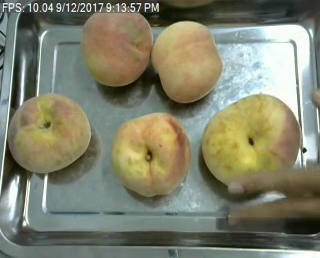Peach: (202, 93, 299, 182), (110, 113, 190, 197), (7, 92, 91, 172), (151, 19, 223, 102), (80, 4, 152, 86)
